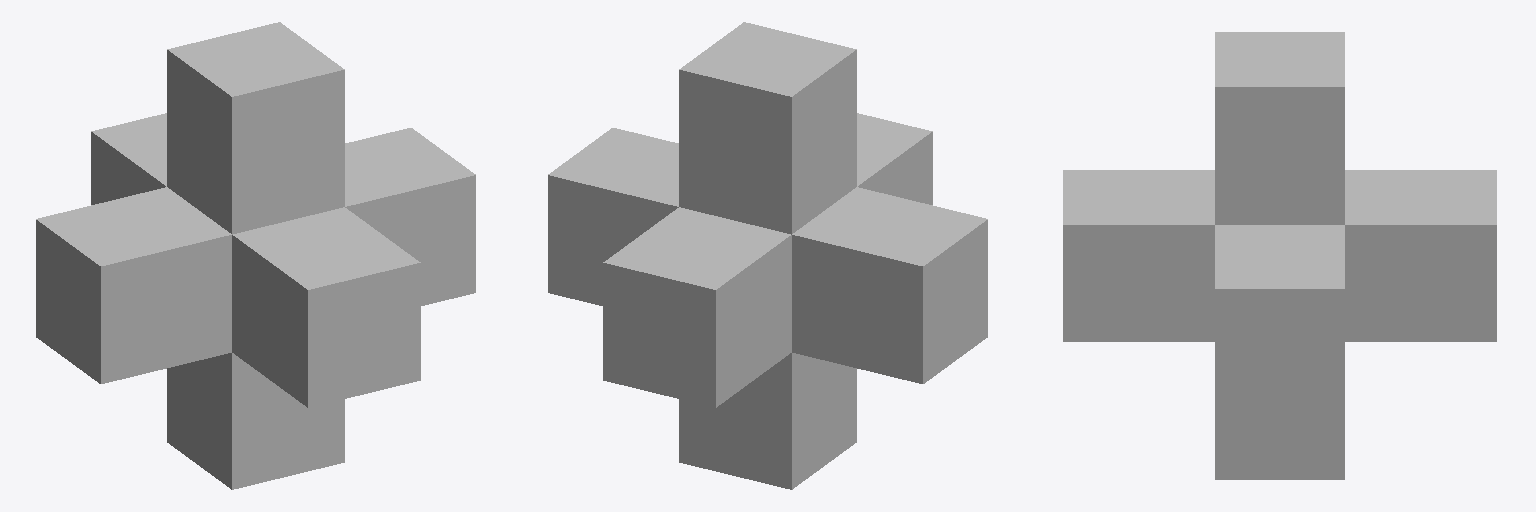
File: Full.obj
3 views of the same model, side by side, from view 1: azimuth 30°, elevation 25°; view 2: azimuth 150°, elevation 25°; view 3: azimuth 270°, elevation 25° (orthographic).
Visible parts, largest first — view 1: Full; view 2: Full; view 3: Full.
Part boxes in pixels (bbox=[...]): Full: bbox=[36, 22, 475, 489]; Full: bbox=[548, 22, 987, 489]; Full: bbox=[1063, 32, 1496, 479].
Bounding box in the file's own units: 2 × 2 × 2.